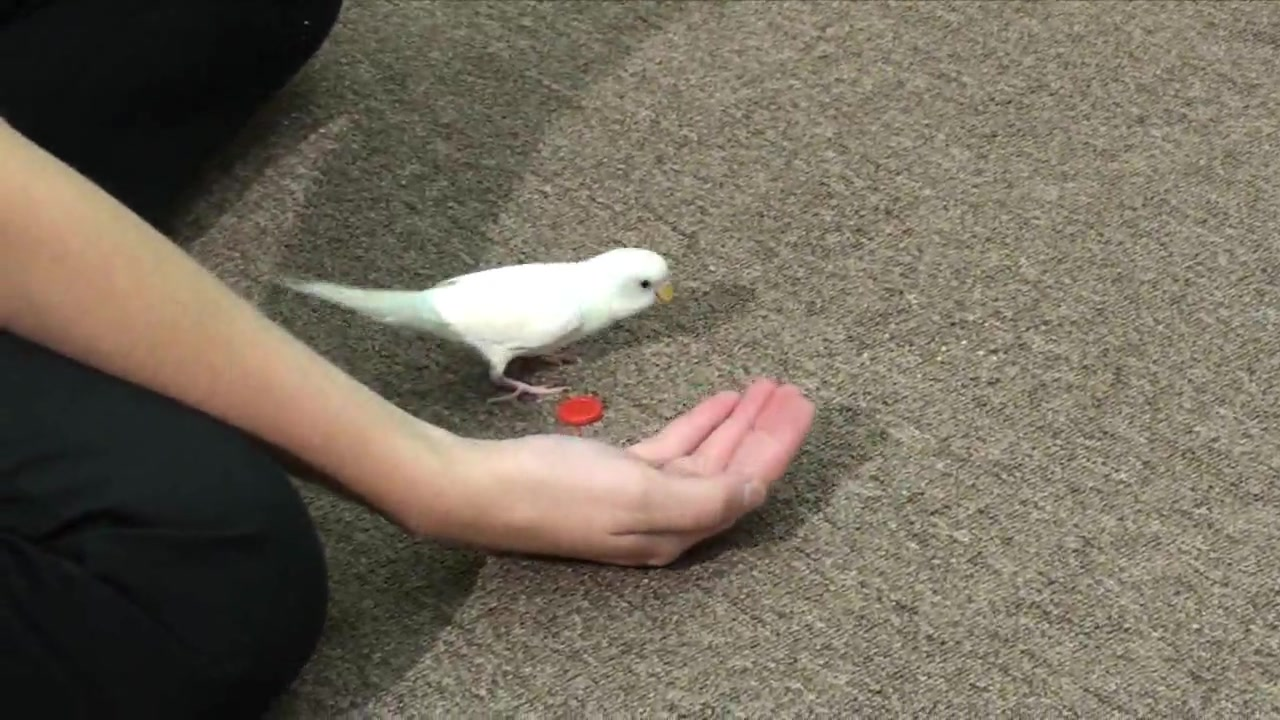bird: (280, 248, 676, 406)
